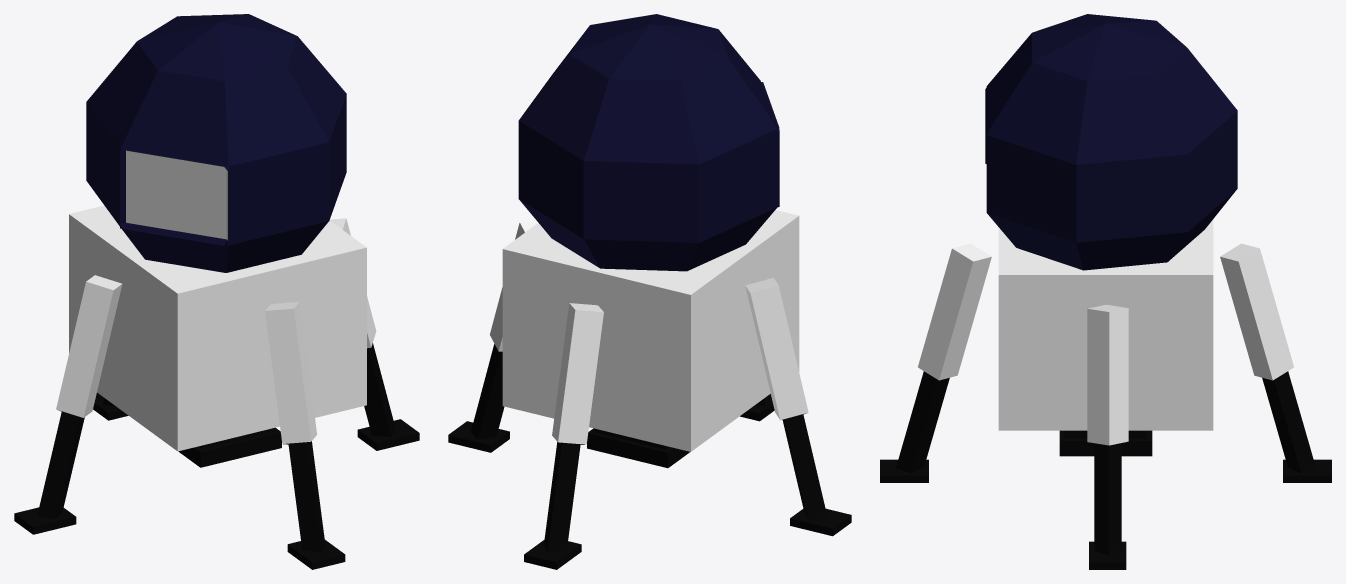
The model's file is Space capsule .fbx.
The picture shows the model from 3 angles, left to right: view 1: azimuth 30°, elevation 25°; view 2: azimuth 150°, elevation 25°; view 3: azimuth 270°, elevation 25°; orthographic projection.
Visible parts, largest first — view 1: Head, Body, Legs 2, Legs 1, combustion chamber; view 2: Head, Body, Legs 2, Legs 1, combustion chamber; view 3: Head, Body, Legs 1, Legs 2, combustion chamber.
Boxes of the visible parts, bbox=[...] form: Head: bbox=[86, 14, 346, 272]; Body: bbox=[69, 205, 366, 451]; Legs 2: bbox=[14, 218, 419, 534]; Legs 1: bbox=[93, 301, 345, 569]; combustion chamber: bbox=[178, 427, 281, 467]; Head: bbox=[518, 14, 779, 271]; Body: bbox=[502, 210, 799, 451]; Legs 2: bbox=[448, 222, 851, 536]; Legs 1: bbox=[524, 303, 774, 569]; combustion chamber: bbox=[587, 428, 689, 468]; Head: bbox=[985, 14, 1237, 270]; Body: bbox=[998, 219, 1213, 430]; Legs 1: bbox=[880, 243, 1331, 482]; Legs 2: bbox=[1087, 304, 1128, 569]; combustion chamber: bbox=[1059, 430, 1152, 456].
Size of the model in its own units: 323 by 367 by 331.
